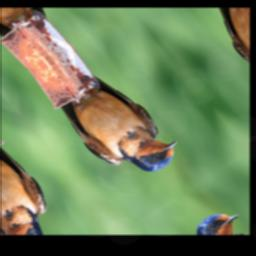Swallow: (45, 58, 187, 194)
